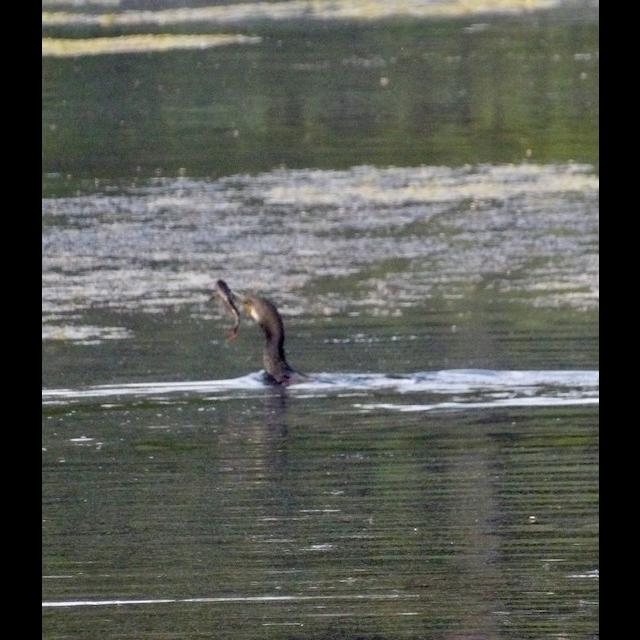cormorant: (230, 287, 310, 395)
